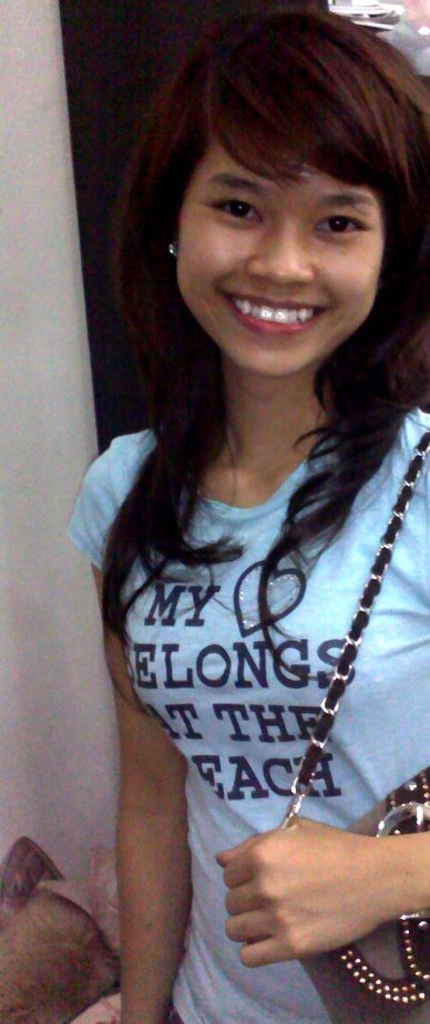Human_hand: (224, 812, 429, 957)
